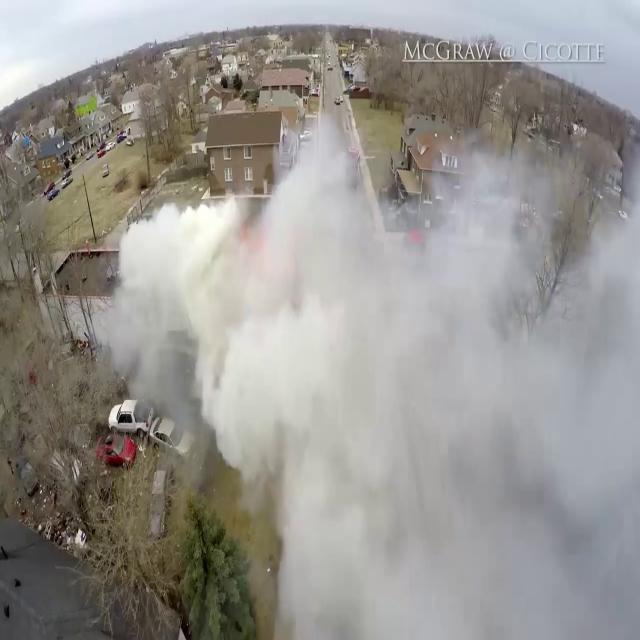Smoke: (100, 115, 640, 638)
